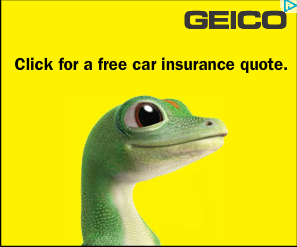geico: (182, 8, 290, 32)
